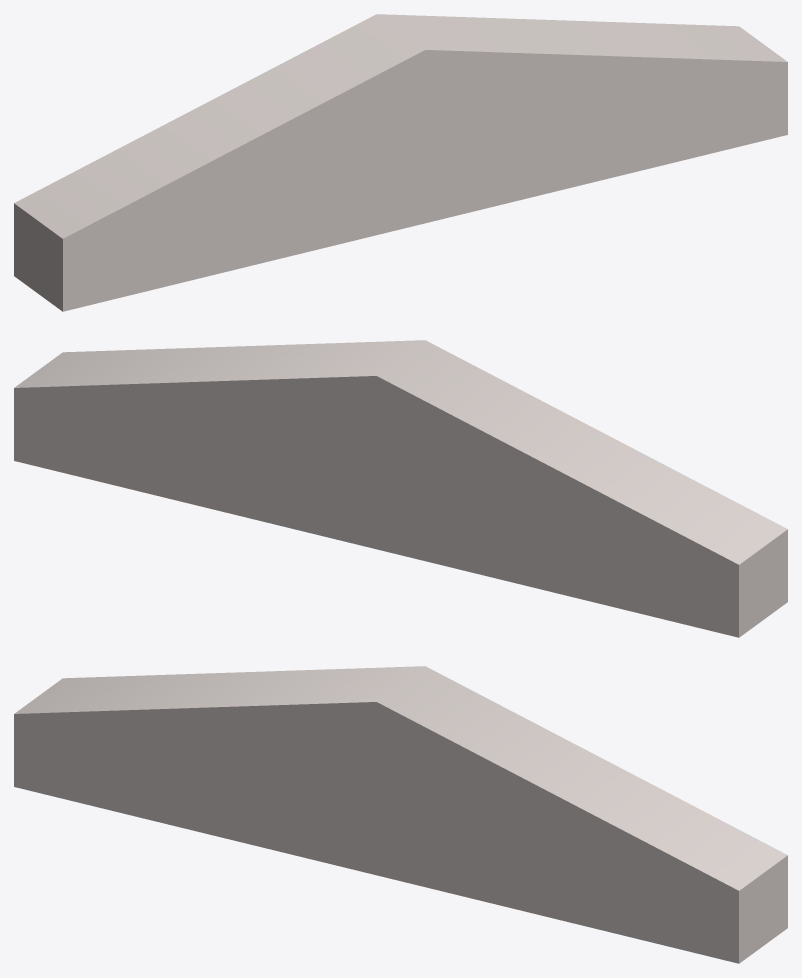
Rendered from fbx_school_outdoor_door3.fbx.
3 renders of one model, top to bottom at view 1: azimuth 30°, elevation 25°; view 2: azimuth 150°, elevation 25°; view 3: azimuth 330°, elevation 25°, orthographic.
Visible parts, largest first — view 1: fbx_school_outdoor_door3; view 2: fbx_school_outdoor_door3; view 3: fbx_school_outdoor_door3.
Part boxes in pixels (x1=…): fbx_school_outdoor_door3: x1=14, y1=14, x2=787, y2=311; fbx_school_outdoor_door3: x1=14, y1=340, x2=787, y2=637; fbx_school_outdoor_door3: x1=14, y1=666, x2=787, y2=963.
Size of the model in its own units: 1.17 by 0.2673 by 0.1364.
1 material, 1 textured.
